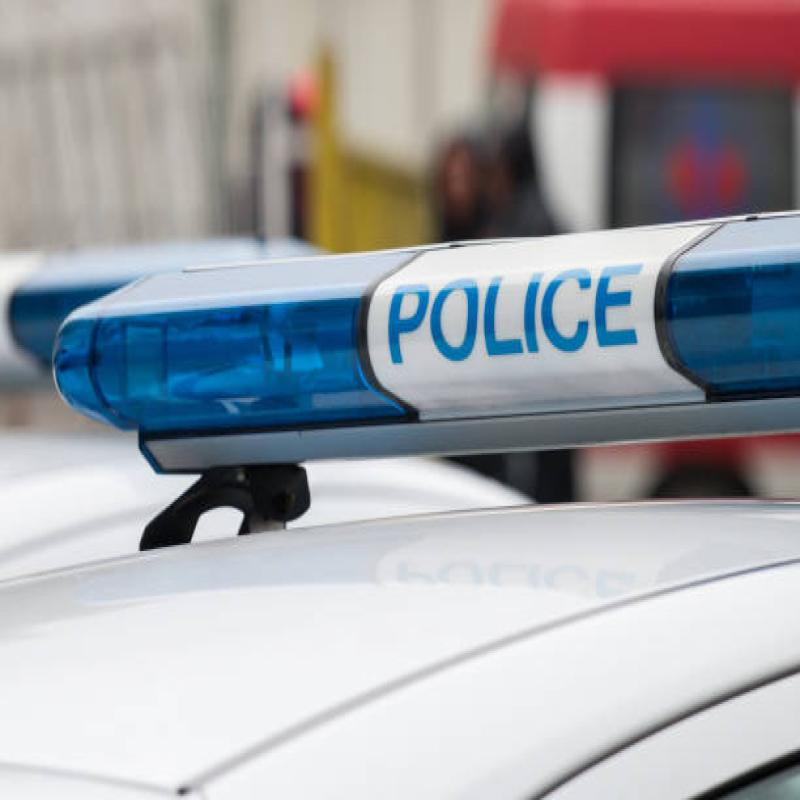AmbulanceSiren: (13, 93, 800, 535)
